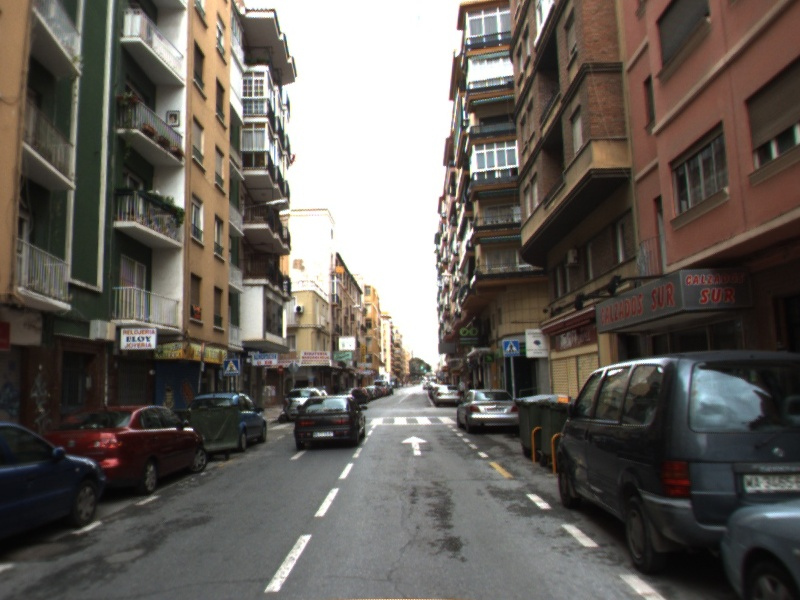STRAIGHT: (399, 434, 430, 457)
